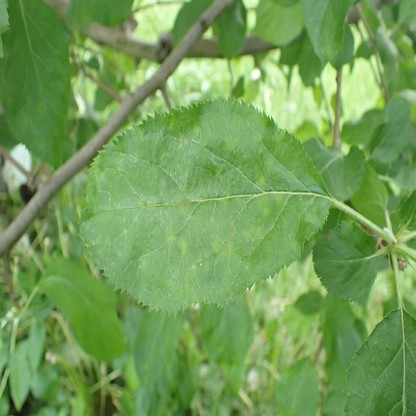frogeye_leaf_spot: (325, 231, 330, 238)
scab: (169, 272, 194, 305), (212, 236, 234, 259), (243, 217, 264, 241), (175, 196, 191, 214), (92, 203, 108, 218), (257, 195, 269, 215), (225, 135, 237, 150), (178, 237, 187, 255), (227, 220, 236, 234), (166, 228, 174, 241), (137, 196, 148, 205), (193, 122, 200, 135), (256, 175, 265, 185), (267, 158, 275, 169), (94, 234, 102, 244), (273, 193, 283, 201), (137, 127, 143, 139), (168, 118, 174, 129), (95, 249, 102, 258)
